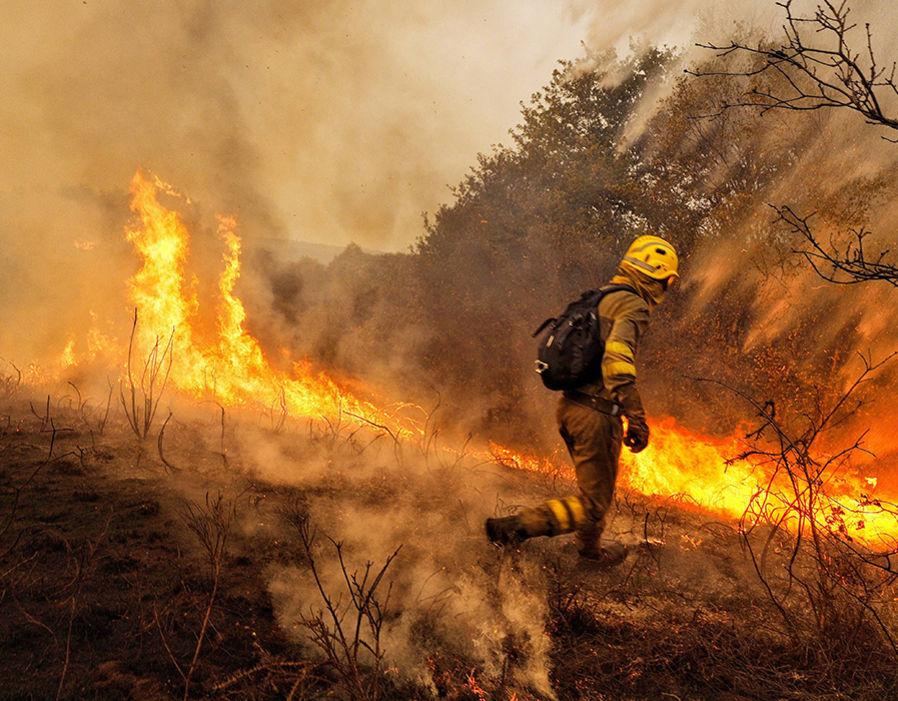Fire: (52, 179, 427, 449), (613, 406, 898, 556)
